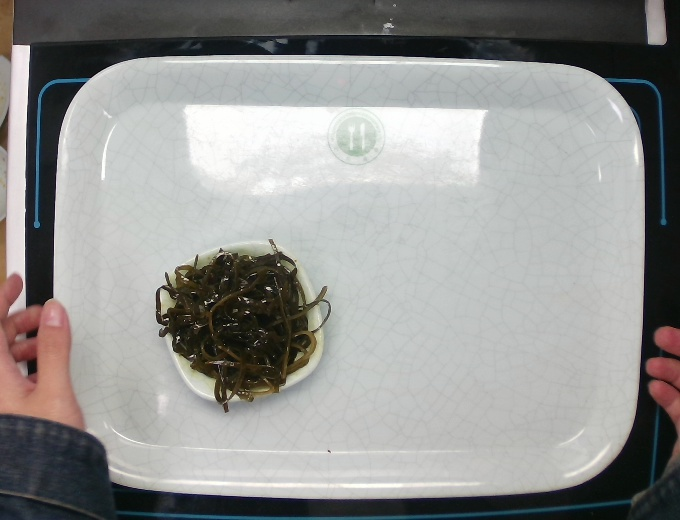JYsf-Si_Fang_Die: (156, 239, 326, 403)
